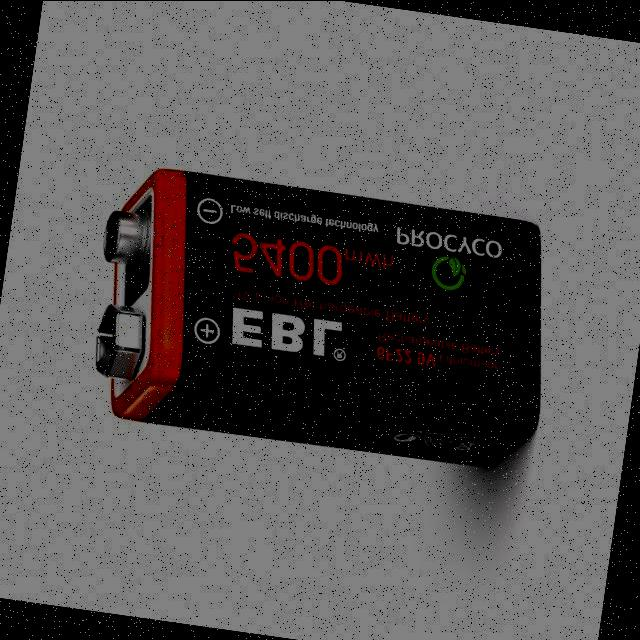9V: (94, 168, 541, 467)
